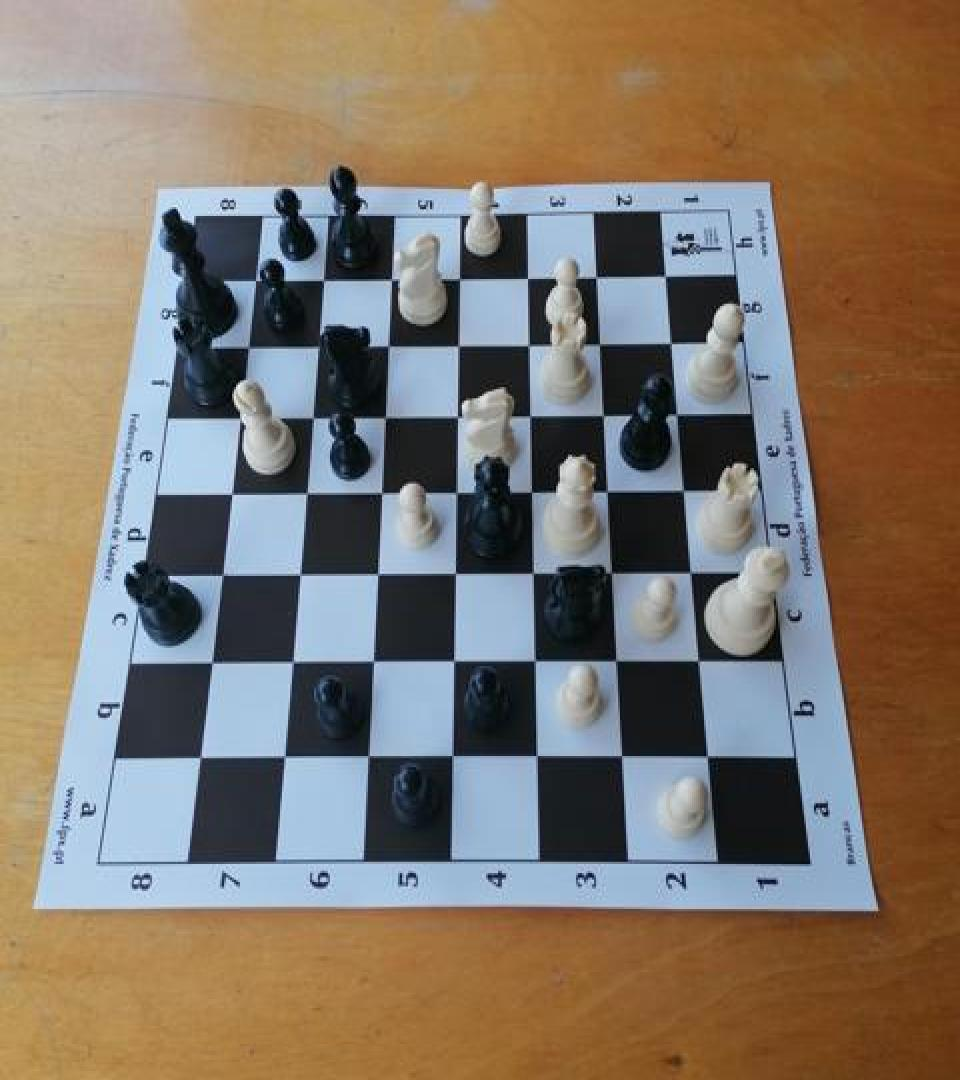xcorner: (183, 740, 213, 774), (268, 740, 298, 774), (354, 740, 384, 774), (439, 740, 469, 774), (525, 739, 555, 773), (611, 739, 641, 773), (698, 739, 728, 773), (523, 644, 553, 678), (606, 644, 636, 678), (689, 644, 719, 678), (205, 557, 235, 591), (283, 557, 313, 591), (362, 556, 392, 590), (442, 556, 472, 590), (521, 556, 551, 590), (601, 554, 631, 588), (681, 554, 711, 588), (214, 476, 244, 510), (443, 474, 473, 508), (519, 474, 549, 508), (596, 472, 626, 506), (673, 472, 703, 506), (223, 399, 253, 433), (297, 399, 327, 433), (370, 398, 400, 432), (444, 397, 474, 431), (518, 397, 548, 431), (592, 396, 622, 430), (666, 396, 696, 430), (302, 327, 332, 361), (373, 327, 403, 361), (445, 326, 475, 360), (516, 326, 546, 360), (588, 325, 618, 359), (659, 324, 689, 358), (239, 262, 269, 296), (308, 261, 338, 295), (377, 261, 407, 295), (446, 260, 476, 294), (515, 258, 545, 292), (584, 258, 614, 292), (194, 645, 224, 678), (276, 645, 306, 678), (358, 645, 388, 678), (440, 645, 470, 678), (290, 475, 320, 508), (366, 475, 396, 508), (232, 329, 262, 362), (653, 258, 683, 291)
